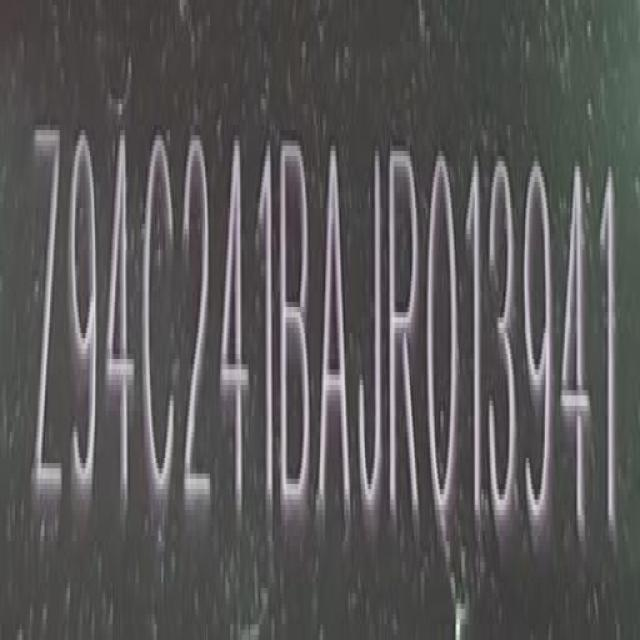0: (427, 143, 460, 534)
1: (602, 171, 624, 555), (256, 136, 275, 530), (464, 152, 481, 538)
2: (183, 130, 215, 523)
3: (488, 155, 520, 539)
4: (558, 160, 593, 548), (218, 133, 250, 529), (108, 130, 140, 522)
9: (67, 127, 101, 519), (523, 151, 555, 548)
A: (318, 138, 352, 531)
B: (281, 138, 314, 529)
C: (141, 133, 178, 522)
J: (357, 139, 386, 528)
R: (389, 143, 425, 532)
Z: (33, 121, 66, 530)
